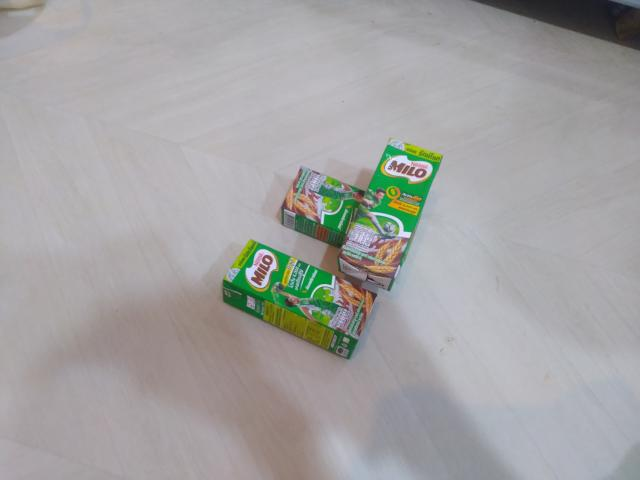drink_box: (200, 235, 396, 369), (318, 133, 463, 309), (266, 150, 375, 256)
